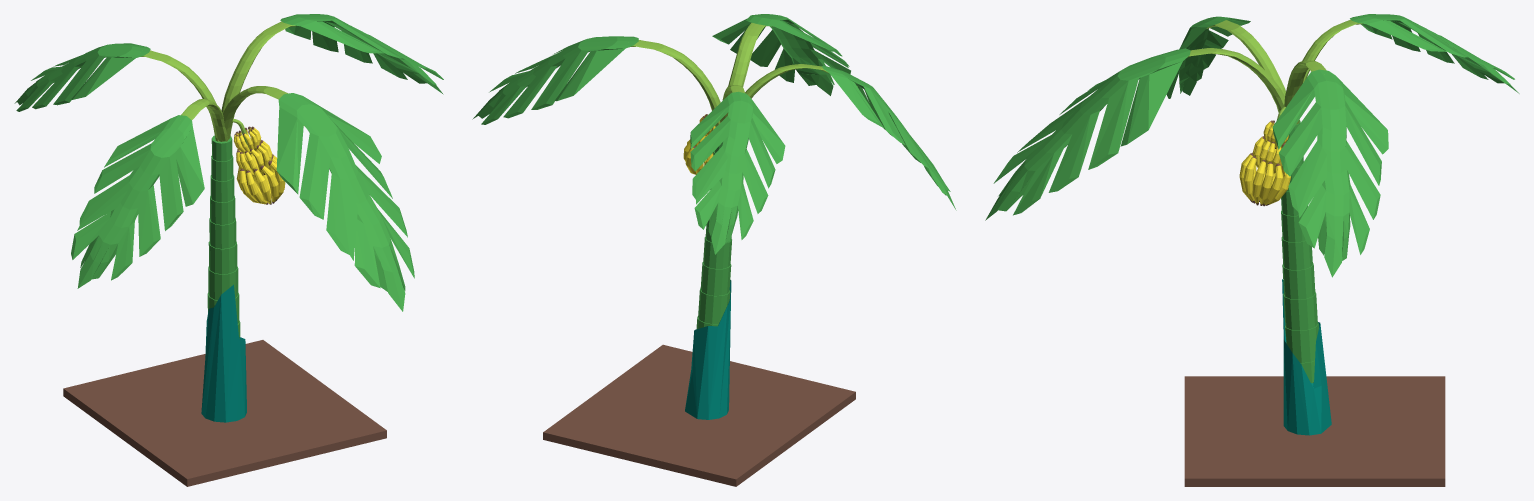
Rendered from banana-tree-with-base.glb.
3 views of the same model, side by side, from view 1: azimuth 30°, elevation 25°; view 2: azimuth 150°, elevation 25°; view 3: azimuth 270°, elevation 25° (orthographic). The views are drawn at different scales.
Visible parts, largest first — view 1: group407479672, group1354621555; view 2: group407479672, group1354621555; view 3: group407479672, group1354621555.
Boxes of the visible parts, box(x1,y1,x2,y2) form: group407479672: box(14, 14, 443, 422); group1354621555: box(63, 340, 386, 486); group407479672: box(472, 14, 956, 419); group1354621555: box(543, 344, 855, 486); group407479672: box(985, 14, 1519, 435); group1354621555: box(1184, 376, 1445, 486).
Size of the model in its own units: 4.67 by 3.89 by 4.74.
